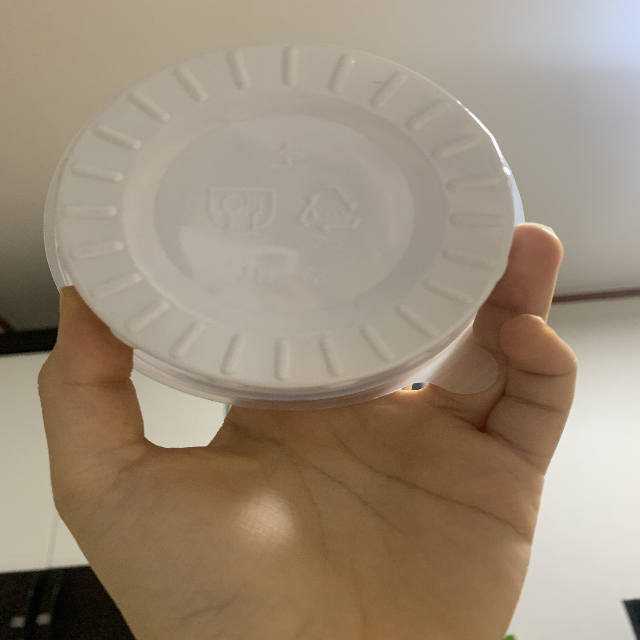ps: (289, 179, 362, 253)
